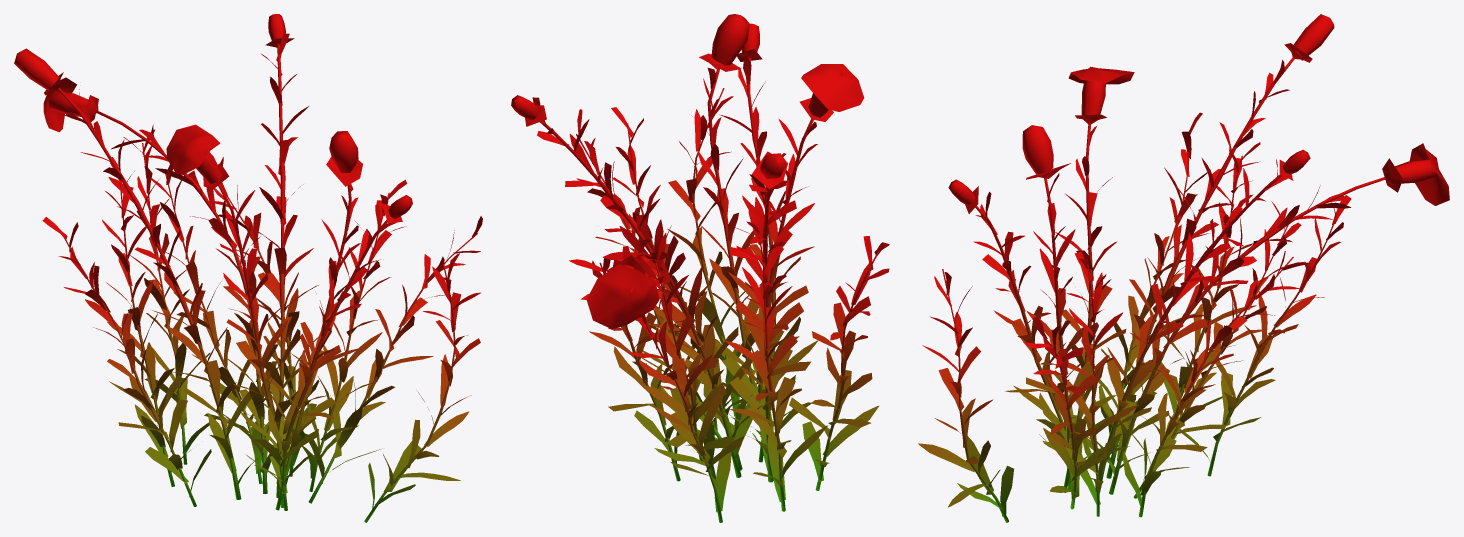
File: Var4_LOD1.fbx
3 views of the same model, side by side, from view 1: azimuth 30°, elevation 25°; view 2: azimuth 150°, elevation 25°; view 3: azimuth 270°, elevation 25° (orthographic). The views are drawn at different scales.
Parts seen in each view (by area): view 1: _3vj1_Var4_LOD1; view 2: _3vj1_Var4_LOD1; view 3: _3vj1_Var4_LOD1.
Boxes of the visible parts, <box> form: _3vj1_Var4_LOD1: <box>14,14,482,522</box>; _3vj1_Var4_LOD1: <box>511,14,889,522</box>; _3vj1_Var4_LOD1: <box>918,14,1449,522</box>.
Size of the model in its own units: 19.4 by 20.87 by 24.32.
